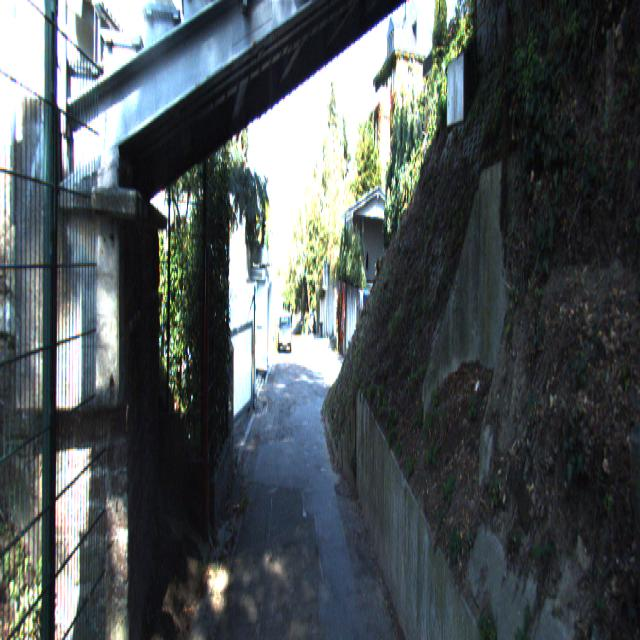Car: (278, 312, 292, 352)
